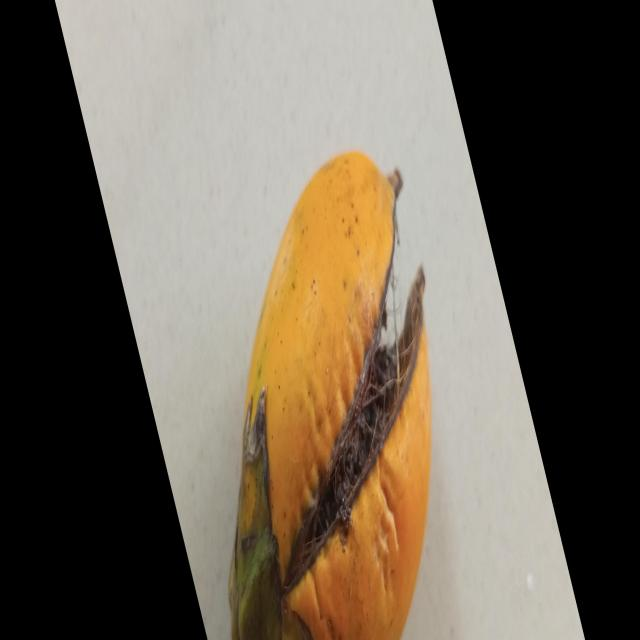damaged: (232, 151, 432, 640)
